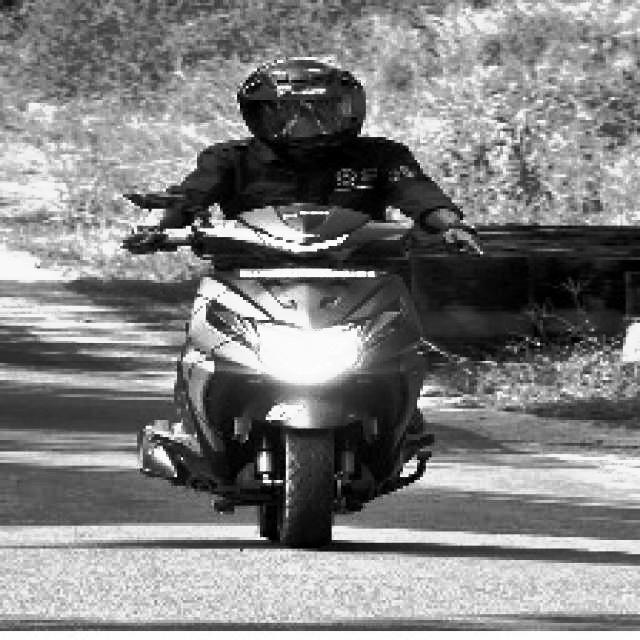Bike: (153, 208, 460, 556)
